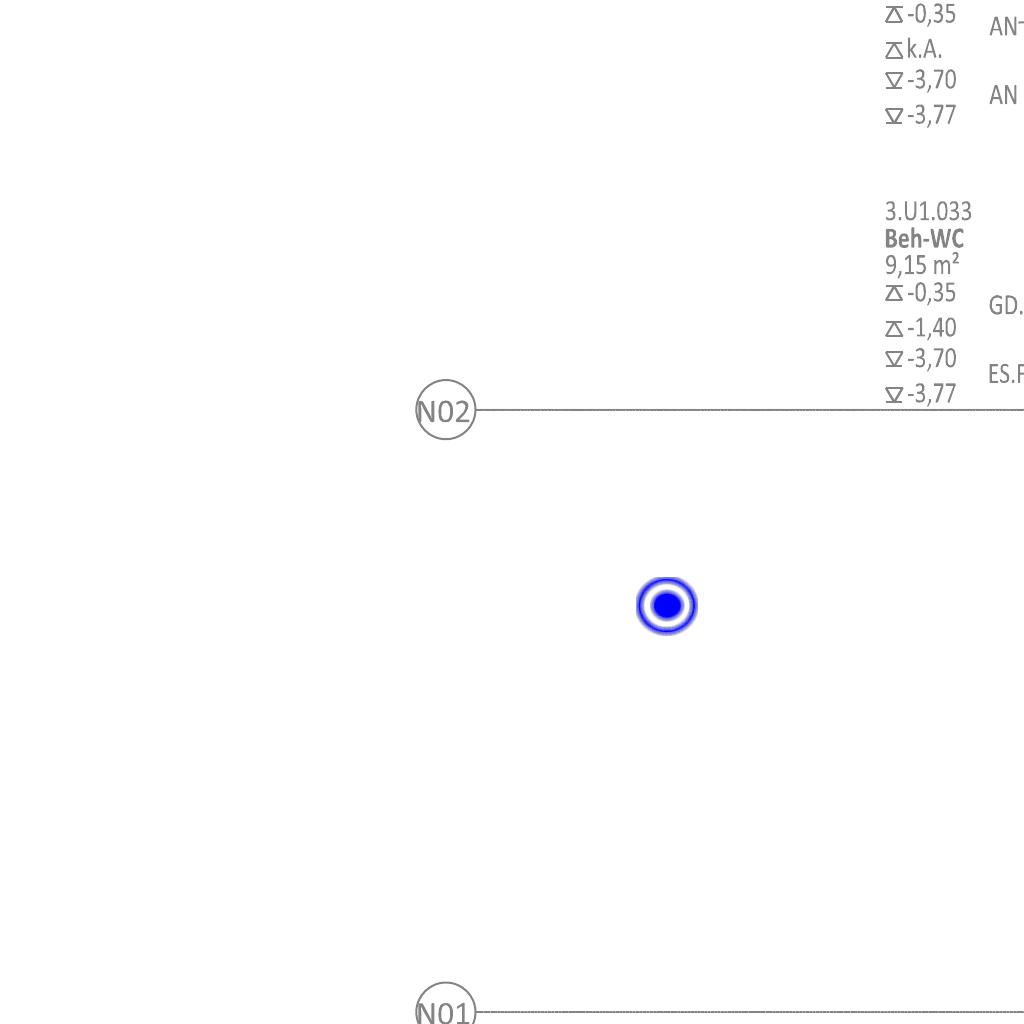Taster: (634, 575, 700, 641)
